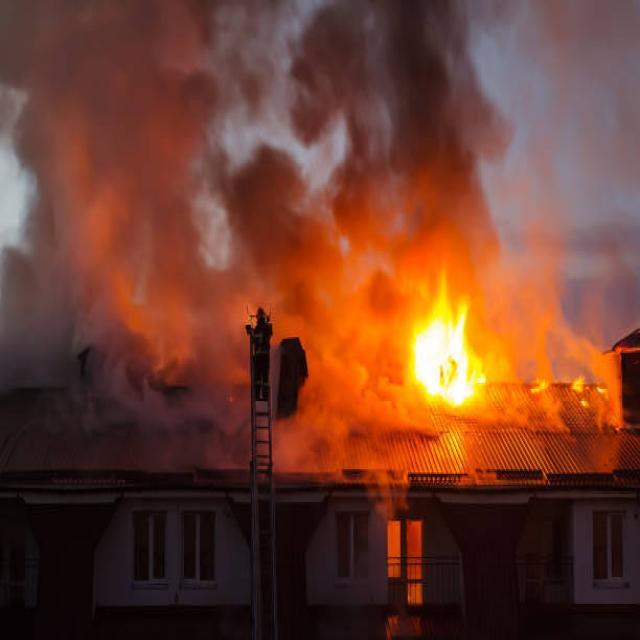Fire: (412, 296, 498, 426)
Smoke: (2, 0, 510, 260), (16, 248, 225, 446)
